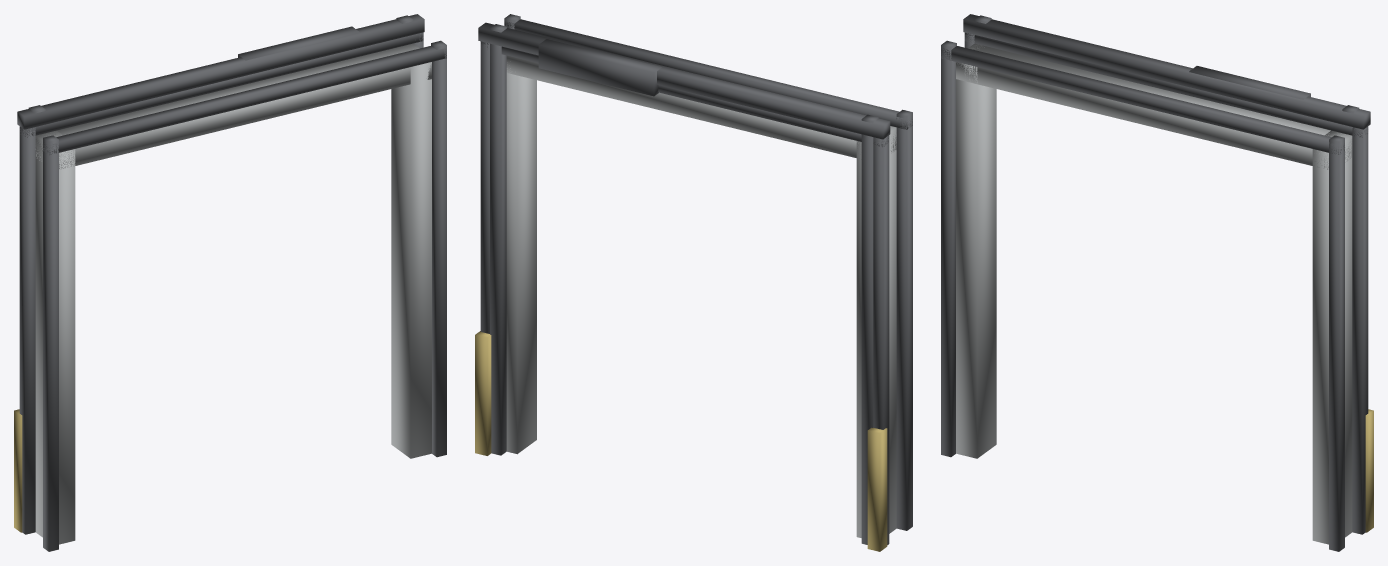
Rendered from bay_opening_service_bay_w300_h320_d30.glb.
3 views of the same model, side by side, from view 1: azimuth 30°, elevation 25°; view 2: azimuth 150°, elevation 25°; view 3: azimuth 330°, elevation 25° (orthographic).
Visible parts, largest first — view 1: world; view 2: world; view 3: world.
Boxes of the visible parts, bbox=[...] form: world: bbox=[14, 14, 446, 551]; world: bbox=[475, 14, 912, 551]; world: bbox=[941, 14, 1373, 551].
Bounding box in the file's own units: 3.58 × 3.59 × 0.522.
